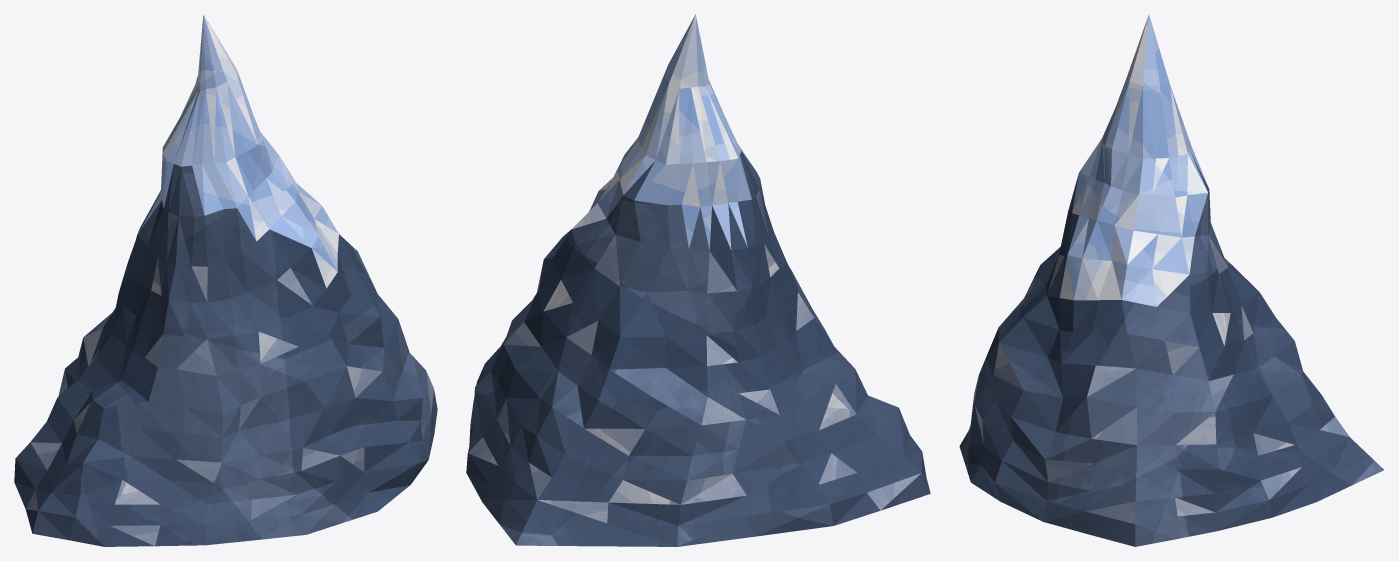
Rendered from Track_Mountain02.fbx.
The picture shows the model from 3 angles, left to right: view 1: azimuth 30°, elevation 25°; view 2: azimuth 150°, elevation 25°; view 3: azimuth 270°, elevation 25°; orthographic projection. The views are drawn at different scales.
Parts seen in each view (by area): view 1: Track_Mountain02; view 2: Track_Mountain02; view 3: Track_Mountain02.
Part boxes in pixels (x1,y1,x2,y2): Track_Mountain02: (14, 14, 437, 546); Track_Mountain02: (466, 14, 930, 546); Track_Mountain02: (959, 14, 1383, 546).
Size of the model in its own units: 70.51 by 70.59 by 63.18.
